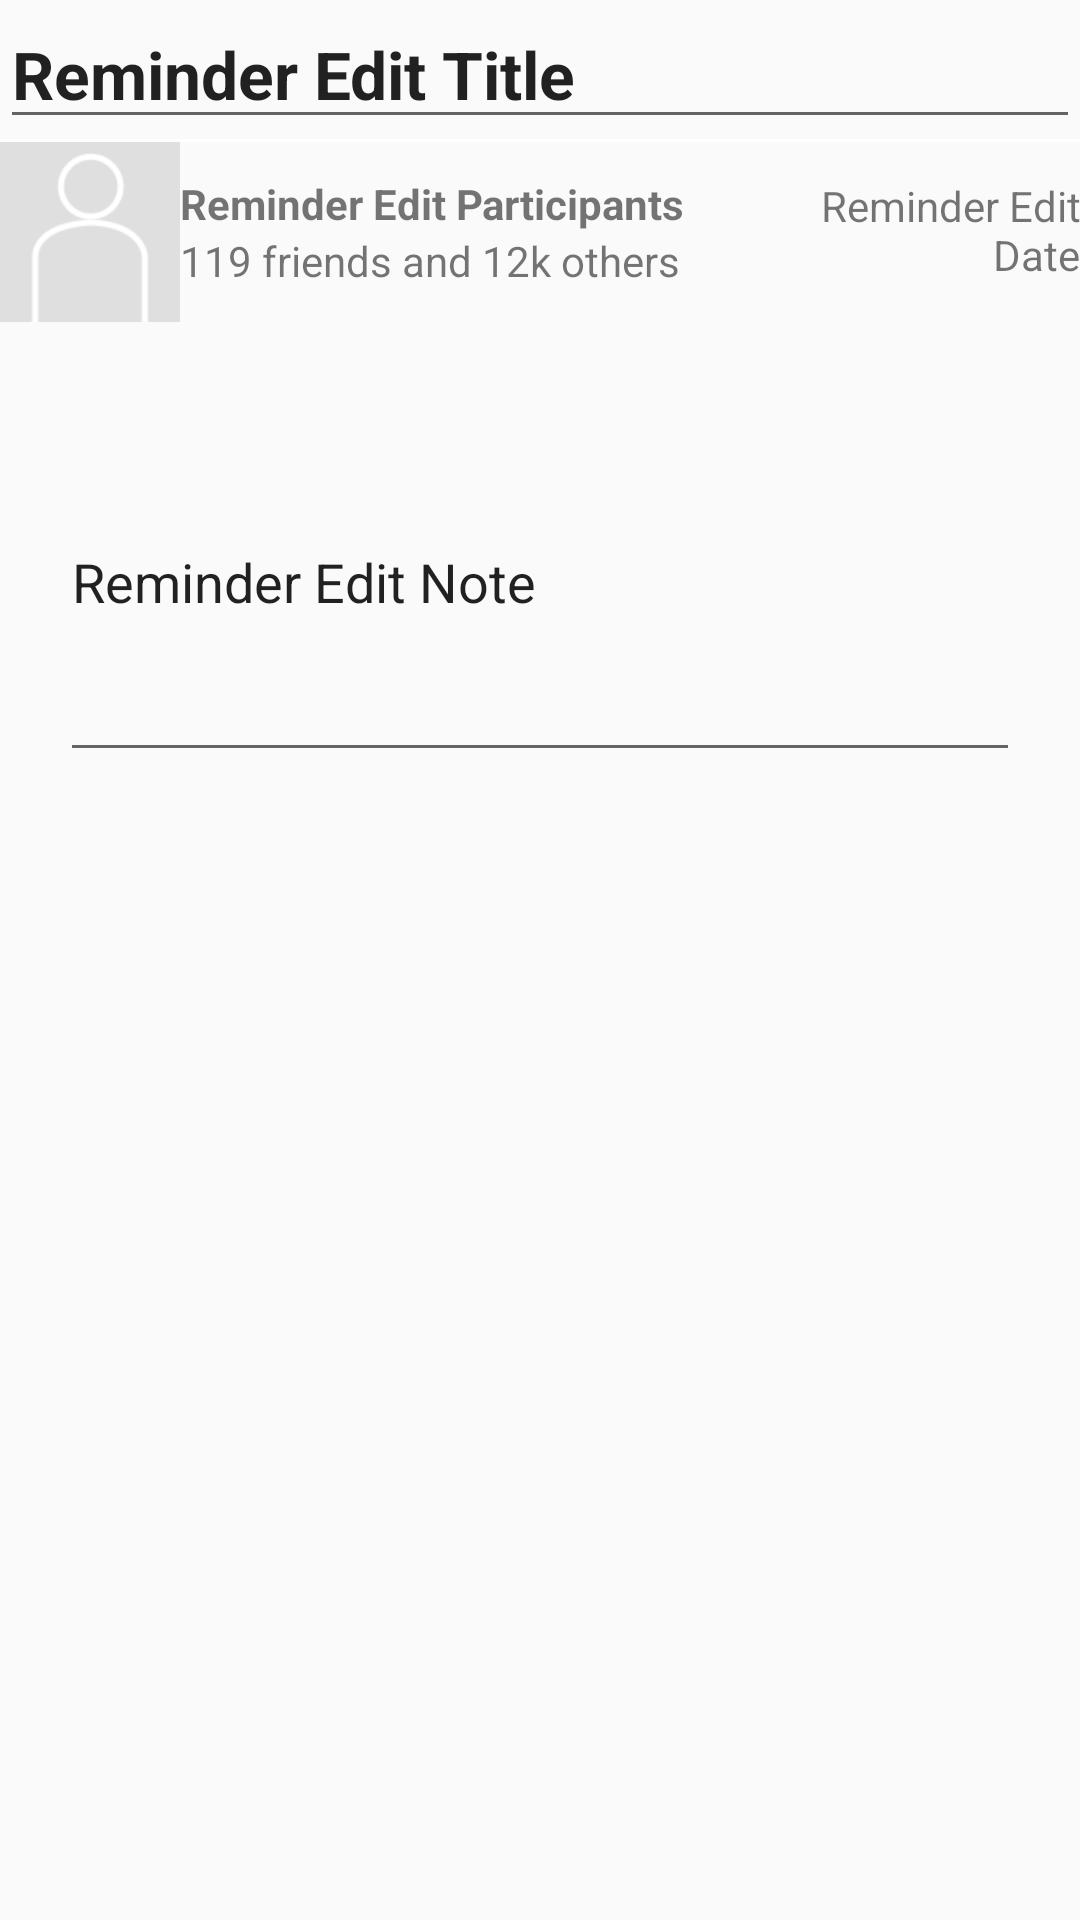

Locate icon controls on the screen. Image size 1080w x 1920h, boxes as (left=x1, top=y1, right=x2, bottom=y2).
Default Profile Picture: (left=0, top=142, right=180, bottom=322)
